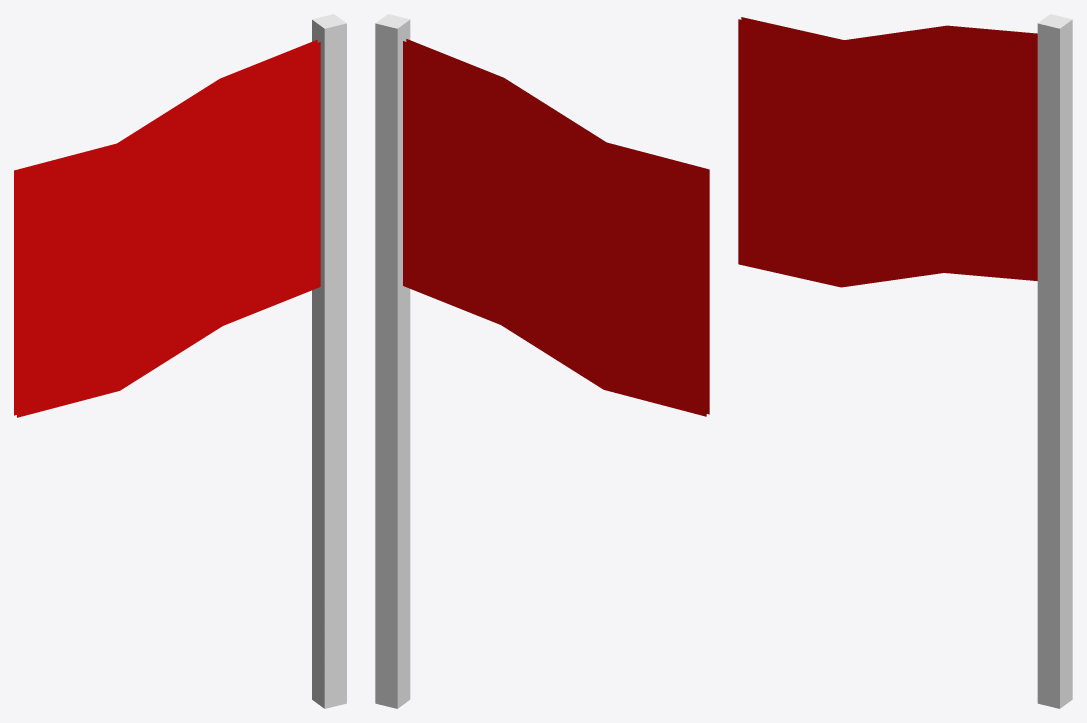
File: Flag_Start.FBX
The picture shows the model from 3 angles, left to right: view 1: azimuth 30°, elevation 25°; view 2: azimuth 150°, elevation 25°; view 3: azimuth 330°, elevation 25°; orthographic projection.
Parts seen in each view (by area): view 1: Flag_Start; view 2: Flag_Start; view 3: Flag_Start.
Part boxes in pixels (left/top/right/bottom): Flag_Start: left=14, top=14, right=346, bottom=708; Flag_Start: left=375, top=14, right=709, bottom=708; Flag_Start: left=738, top=14, right=1072, bottom=708.
Bounding box in the file's own units: 4.39 × 8.77 × 0.3.
